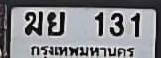1: (130, 12, 139, 36), (94, 10, 102, 34)
3: (109, 12, 123, 35)
A06: (24, 10, 42, 34)
A34: (46, 10, 64, 34)
BKK: (28, 43, 138, 58)
